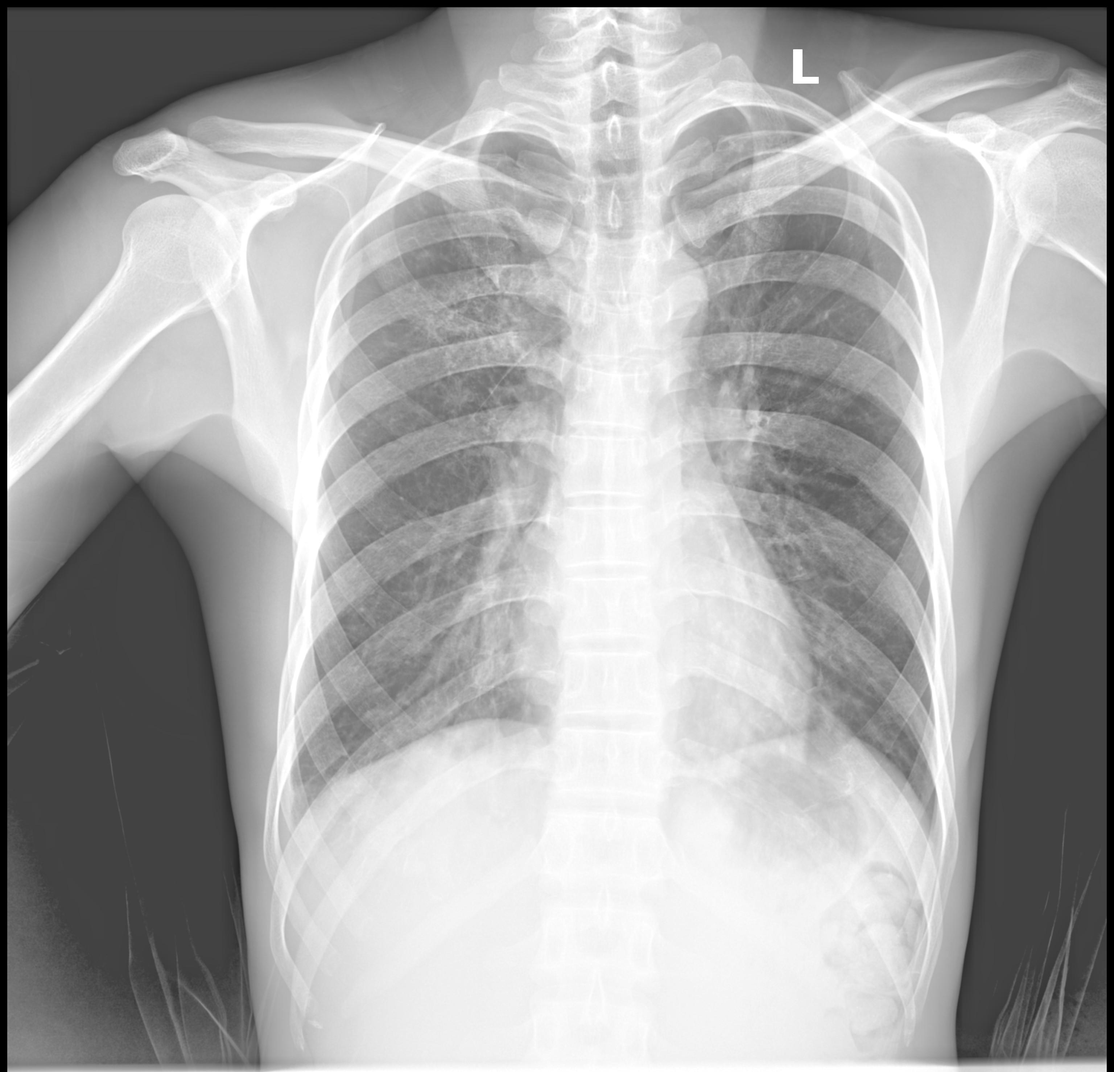Pulmonary fibrosis: (382, 174, 559, 437)
